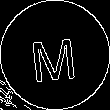M_N: (29, 27, 81, 83)
